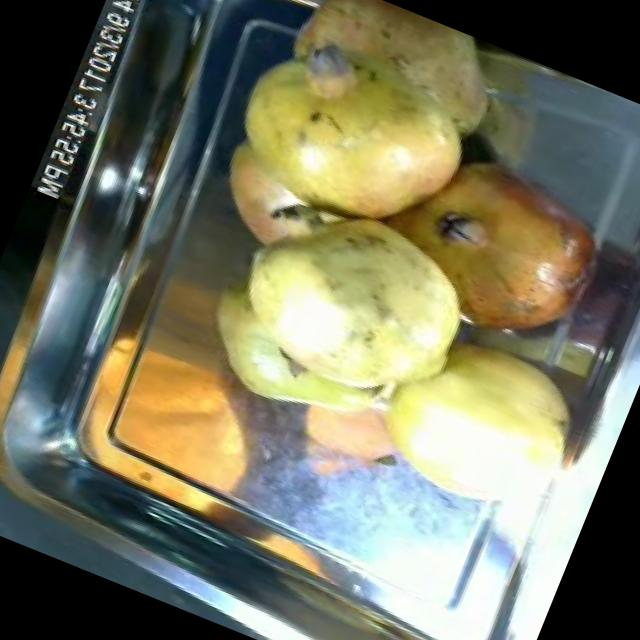fruit: (174, 162, 506, 470), (333, 292, 624, 554), (378, 128, 638, 379)
